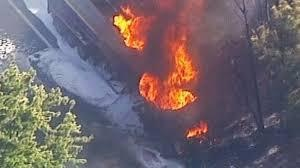fire: (138, 35, 199, 111), (112, 4, 148, 49), (183, 118, 210, 139)
